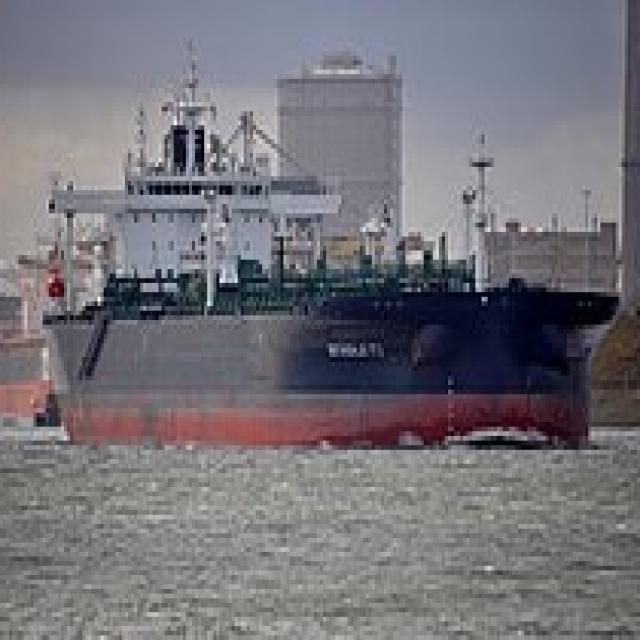Tanker: (43, 32, 597, 446)
